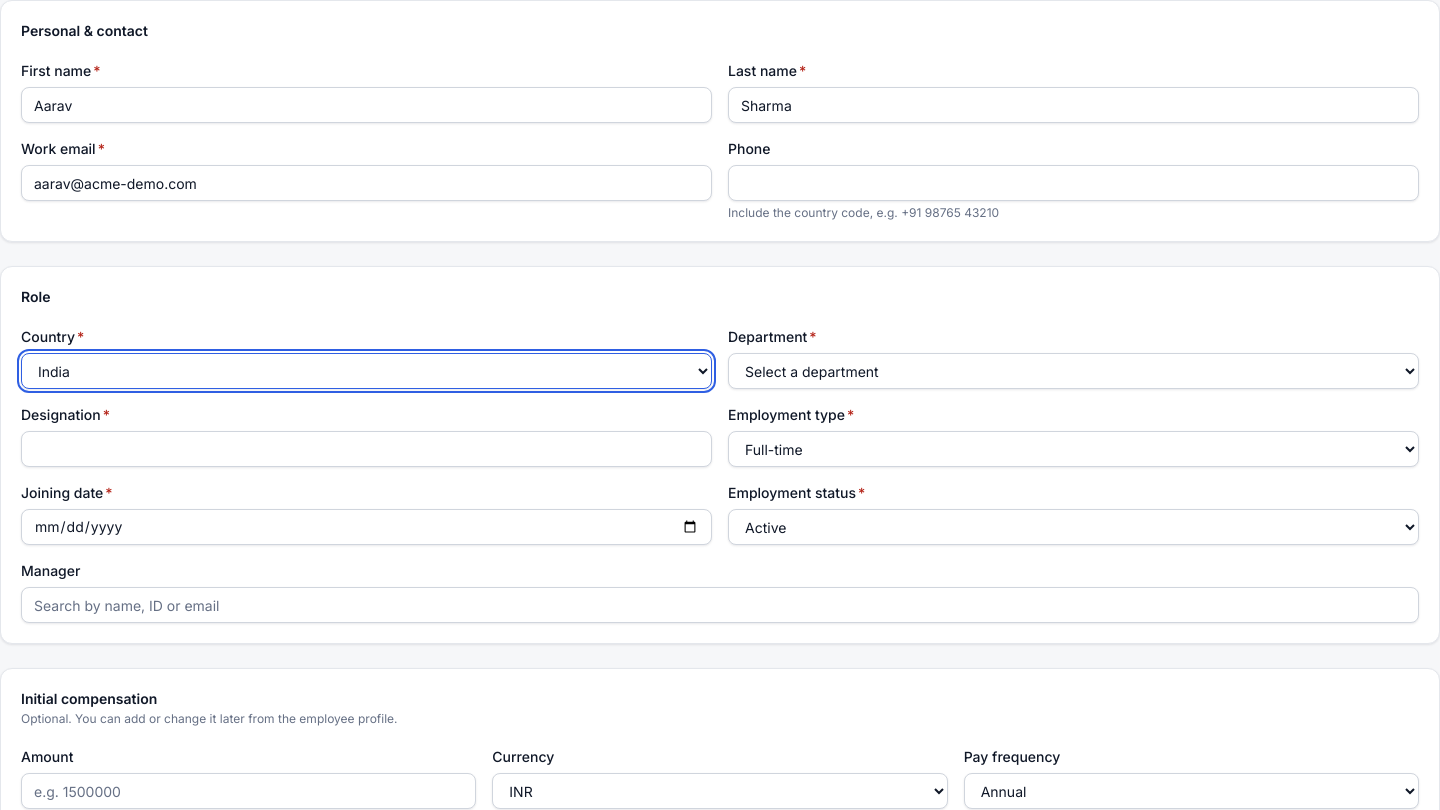
EmployeeForm validation › rejects an invalid email and a negative starting salary
Earlier steps of the test are not shown.
Select "Engineering" in the dropdown labelled "Department*". click: (1074, 371)
box: 728,353 -> 1419,389
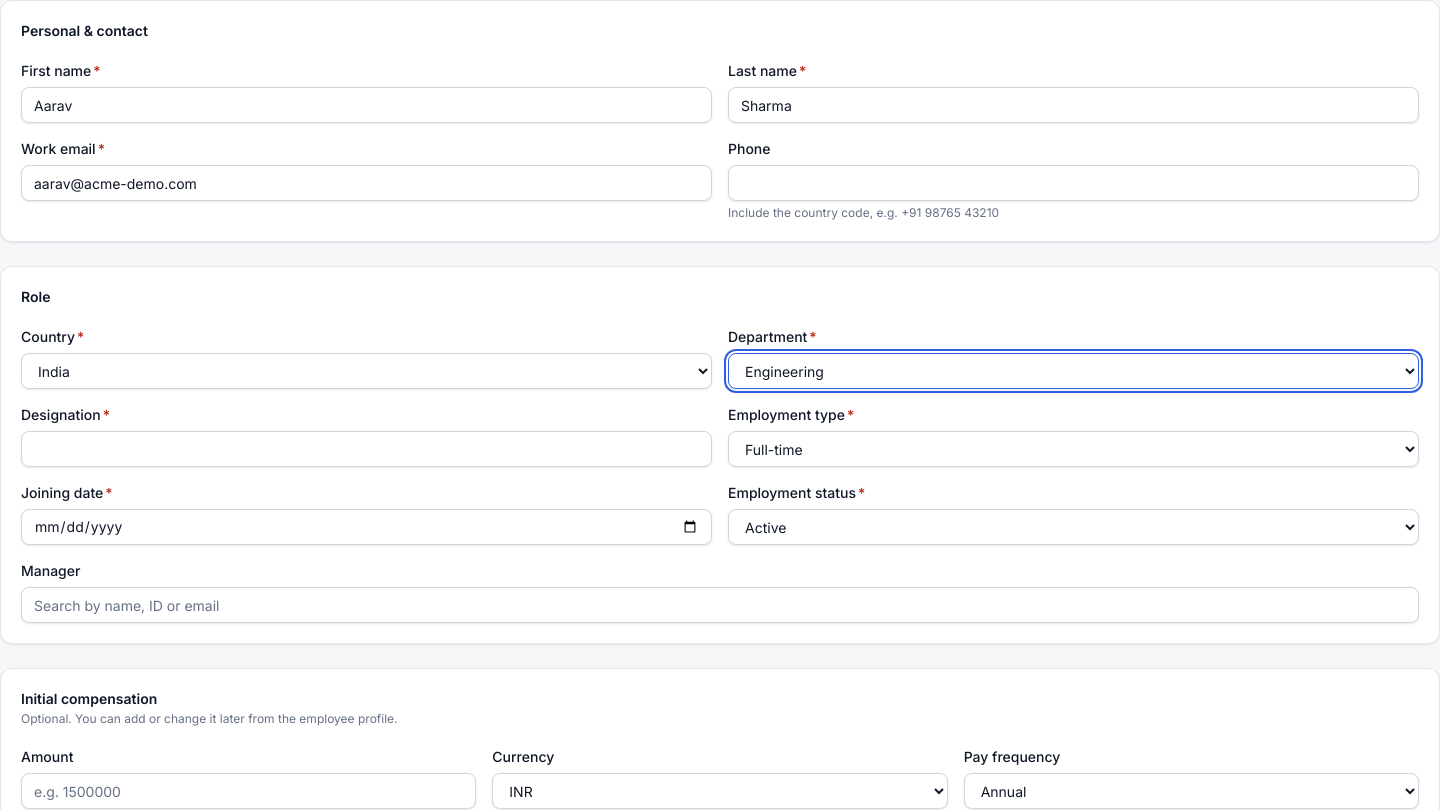
Type "Software Engineer" into the field labelled "Designation*". click: (366, 449)
box: 21,431 -> 712,467
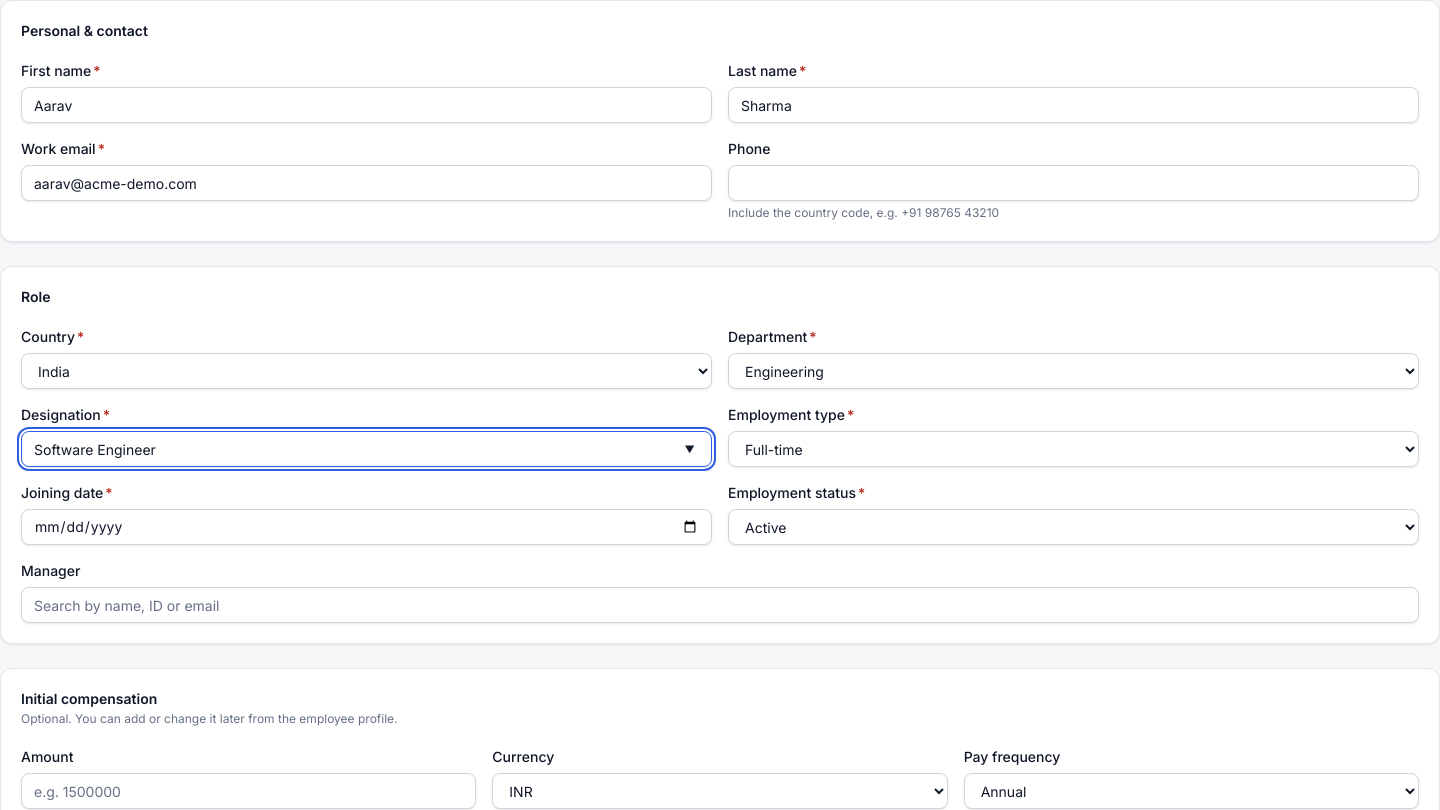
Type "2024-02-01" into the date field labelled "Joining date*". click: (366, 527)
box: 21,509 -> 712,545
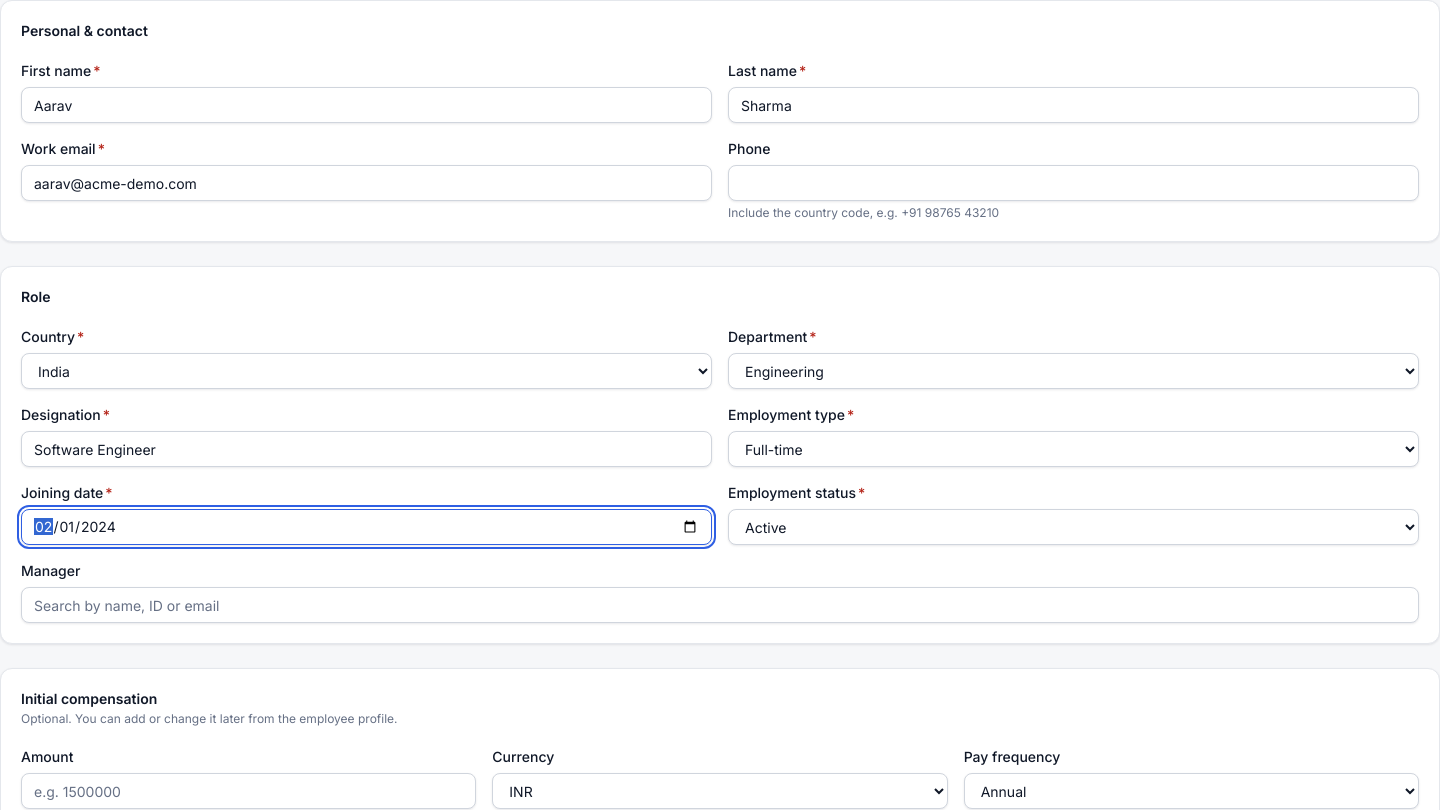
Replace the text in the field labelled "Work email*" with "not-an-email". click: (366, 183)
box: 21,165 -> 712,201
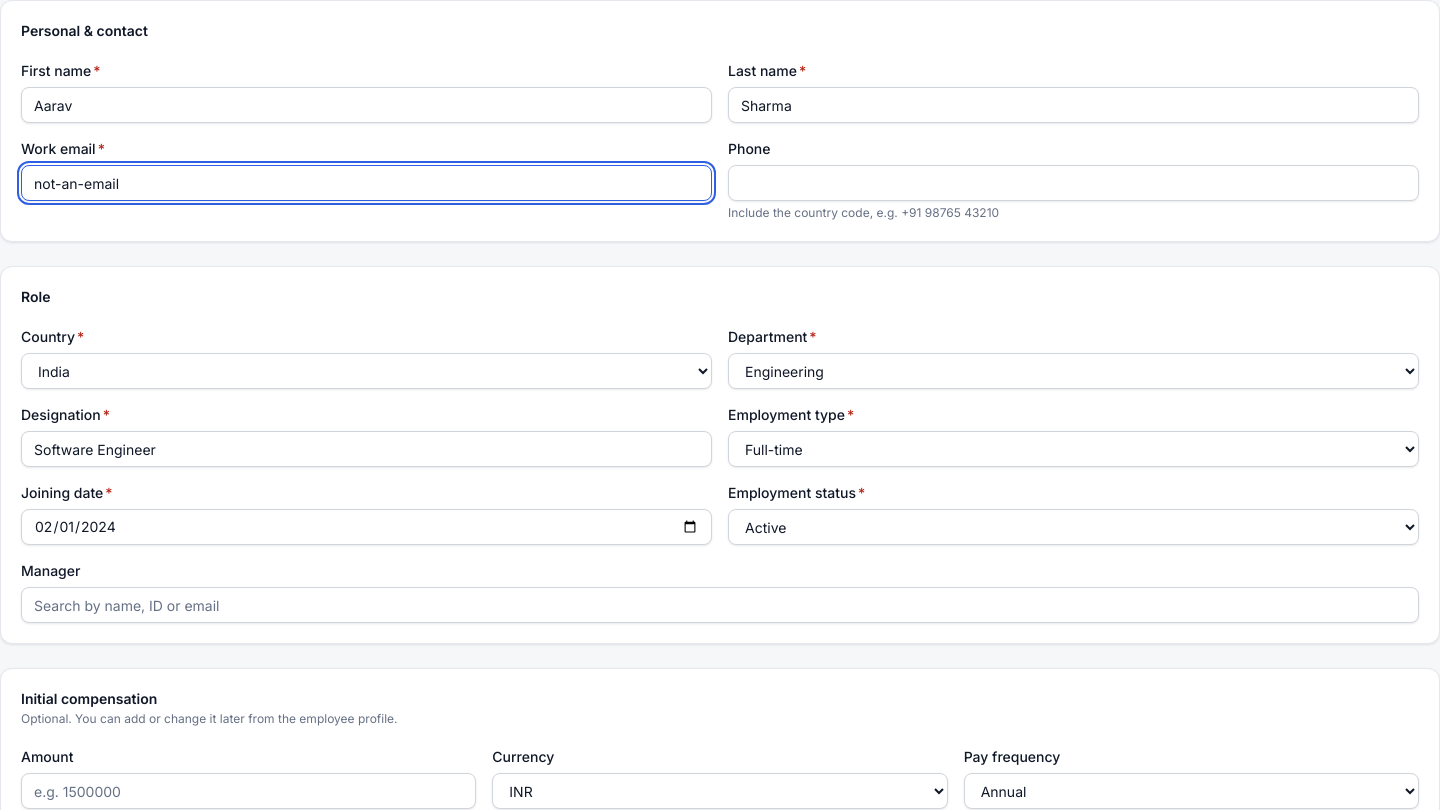
Type "-100" into the field labelled "Amount". click: (249, 791)
box: 21,773 -> 476,809
(page scrolled)
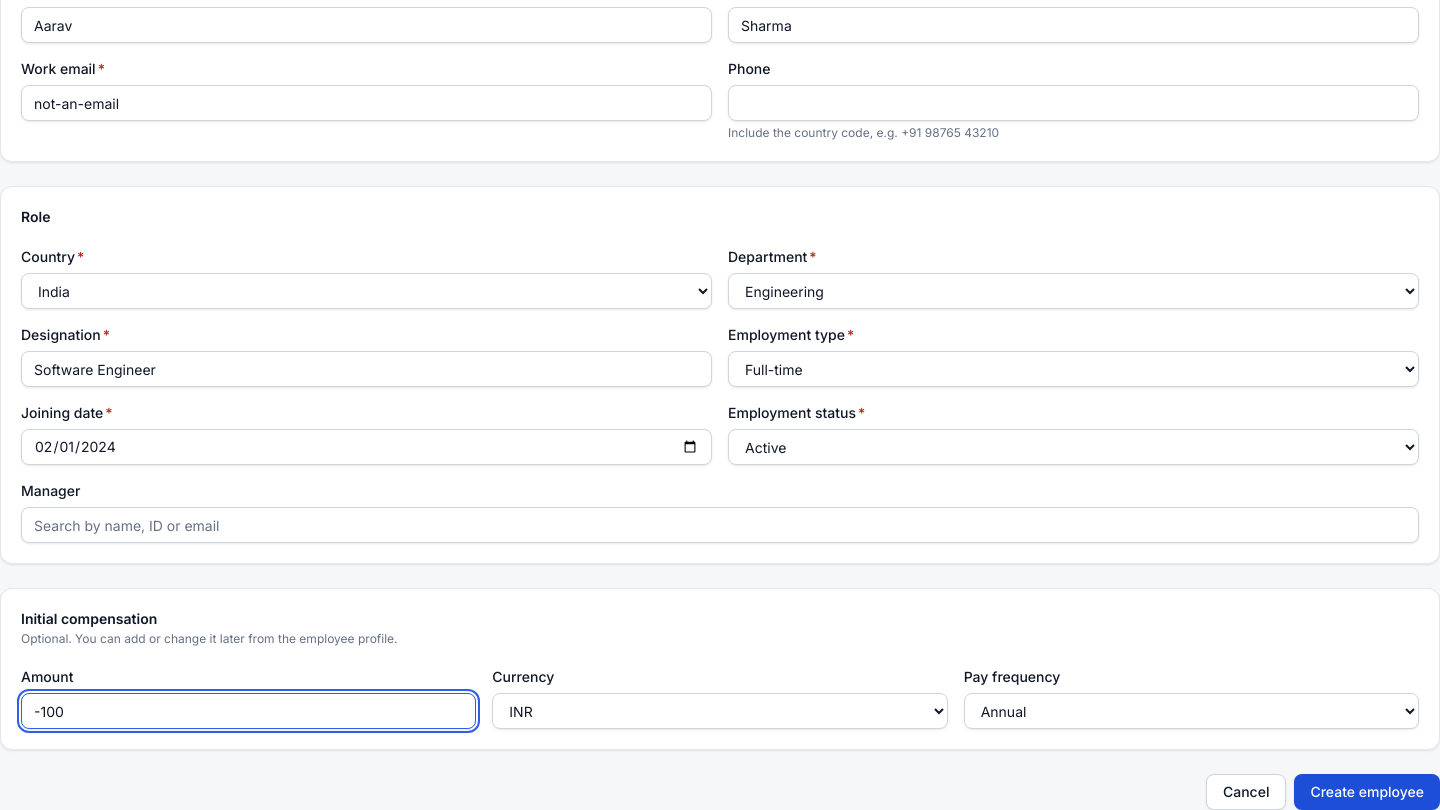
Click the button "Create employee". click: (1367, 792)
box: 1294,774 -> 1439,809
(page scrolled)
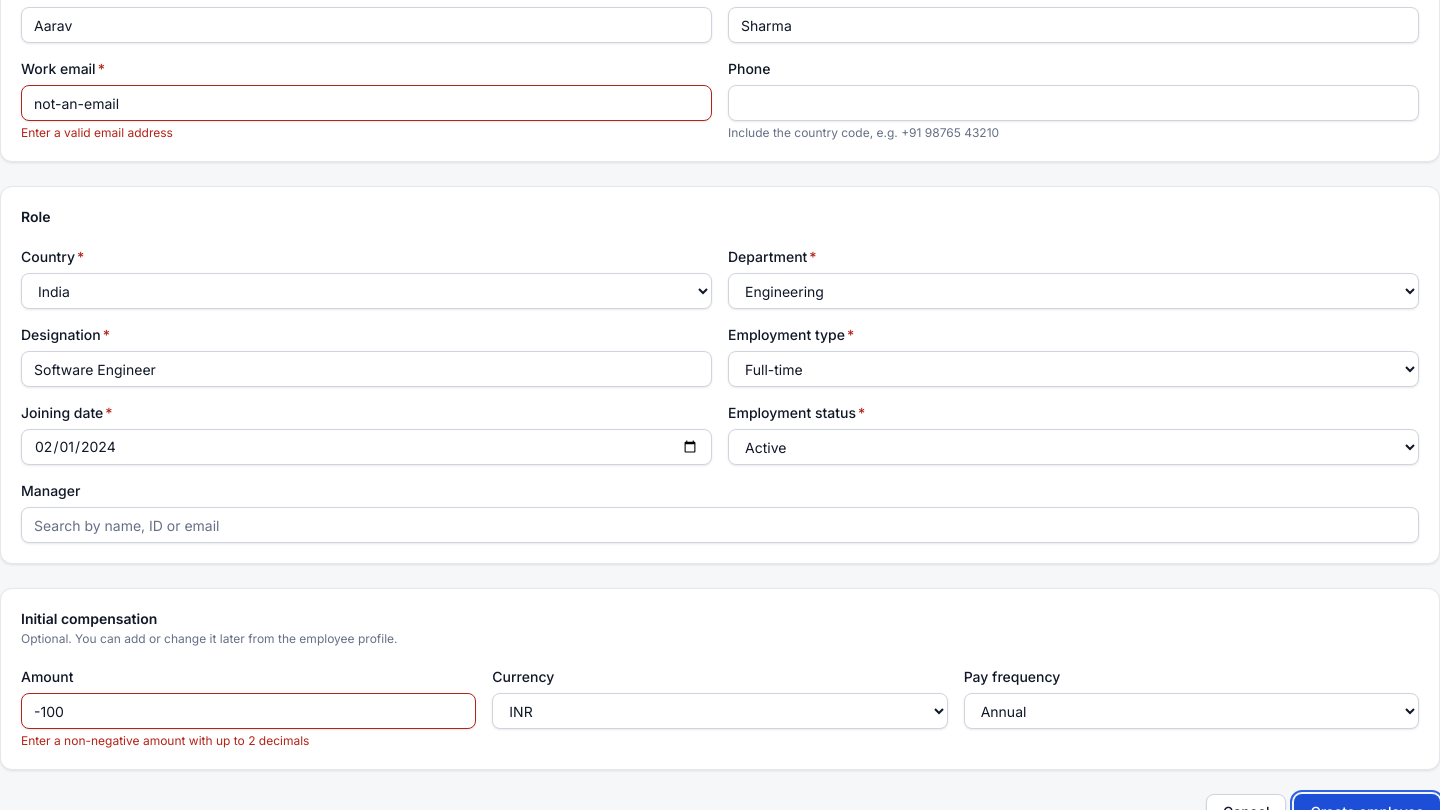
Now the text "Enter a valid email address" is shown, box 21,125 -> 173,140
Now the text "Enter a non-negative amount with up to 2 decimals" is shown, box 21,733 -> 310,748
